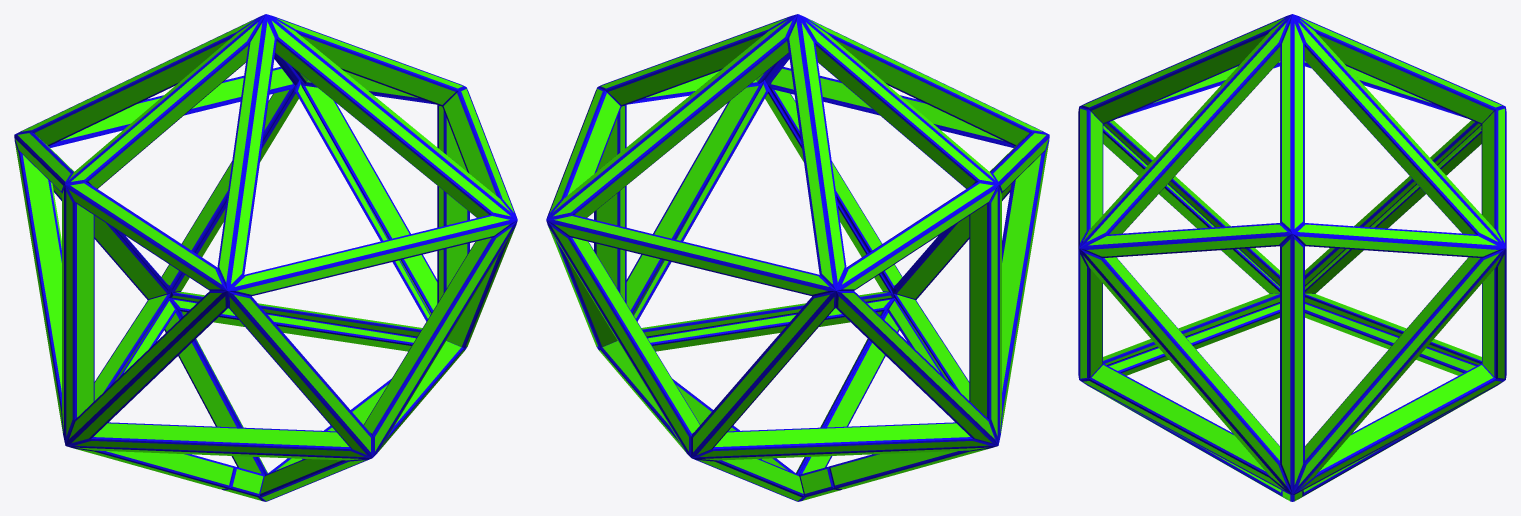
Rendered from powerup.FBX.
3 views of the same model, side by side, from view 1: azimuth 30°, elevation 25°; view 2: azimuth 150°, elevation 25°; view 3: azimuth 270°, elevation 25° (orthographic).
Parts seen in each view (by area): view 1: Object138; view 2: Object138; view 3: Object138.
Part boxes in pixels (left/top/right/bottom): Object138: left=14, top=14, right=517, bottom=501; Object138: left=546, top=14, right=1049, bottom=501; Object138: left=1078, top=14, right=1506, bottom=501.
Size of the model in its own units: 182 by 212 by 168.
